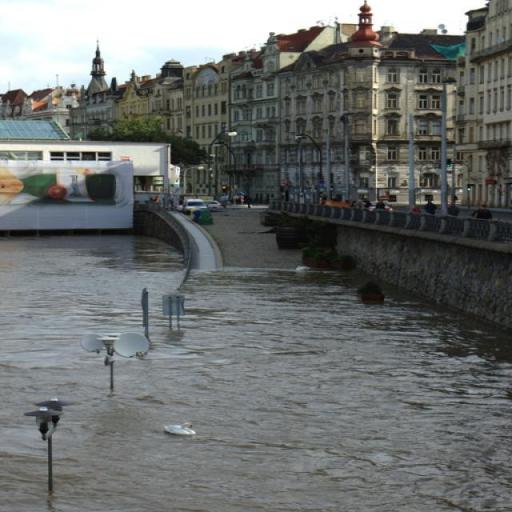flood: (0, 235, 512, 512)
house: (282, 24, 456, 210), (117, 50, 231, 196), (465, 19, 512, 204), (0, 120, 70, 140), (2, 88, 28, 117), (31, 85, 55, 113), (108, 78, 130, 100)
